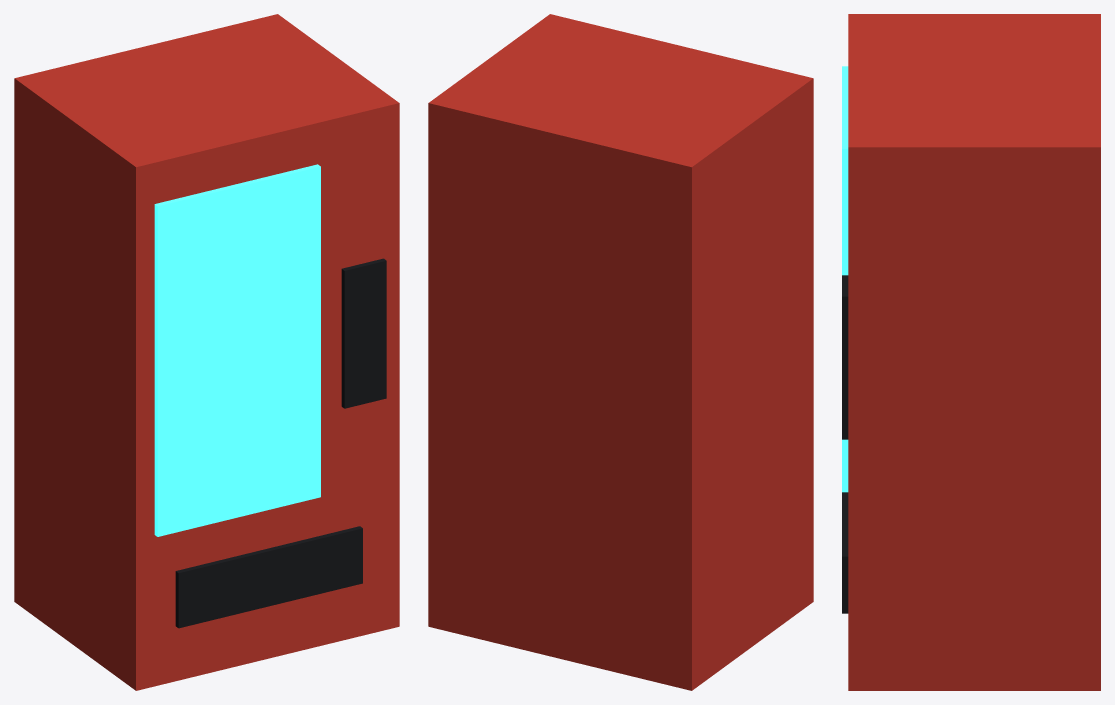
Rendered from vending.glb.
3 views of the same model, side by side, from view 1: azimuth 30°, elevation 25°; view 2: azimuth 150°, elevation 25°; view 3: azimuth 270°, elevation 25° (orthographic). The views are drawn at different scales.
Visible parts, largest first — view 1: vending; view 2: vending; view 3: vending.
Boxes of the visible parts, x1,y1,x2,y2 form: vending: [14, 14, 399, 690]; vending: [428, 14, 813, 690]; vending: [842, 14, 1100, 690].
Bounding box in the file's own units: 1 × 1.9 × 0.82.
